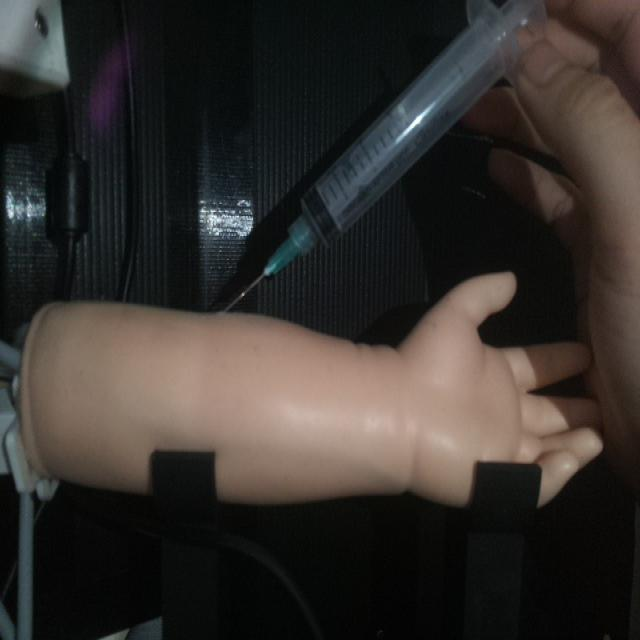Above 30 degrees: (216, 0, 550, 313)
